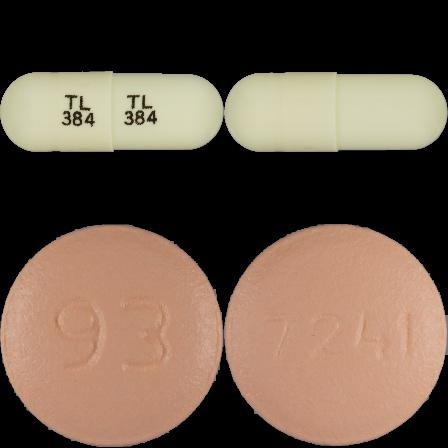53808-0309: (0, 0, 224, 224)
